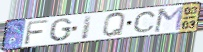C: (132, 10, 158, 33)
F: (23, 19, 51, 46)
G: (49, 17, 74, 42)
I: (80, 14, 94, 41)
M: (152, 5, 186, 34)
Q: (101, 12, 127, 39)
